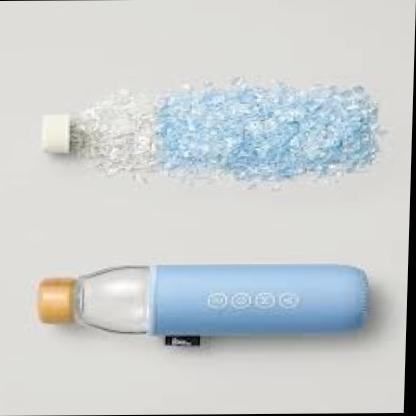trash: (43, 80, 378, 186), (38, 264, 367, 335)
